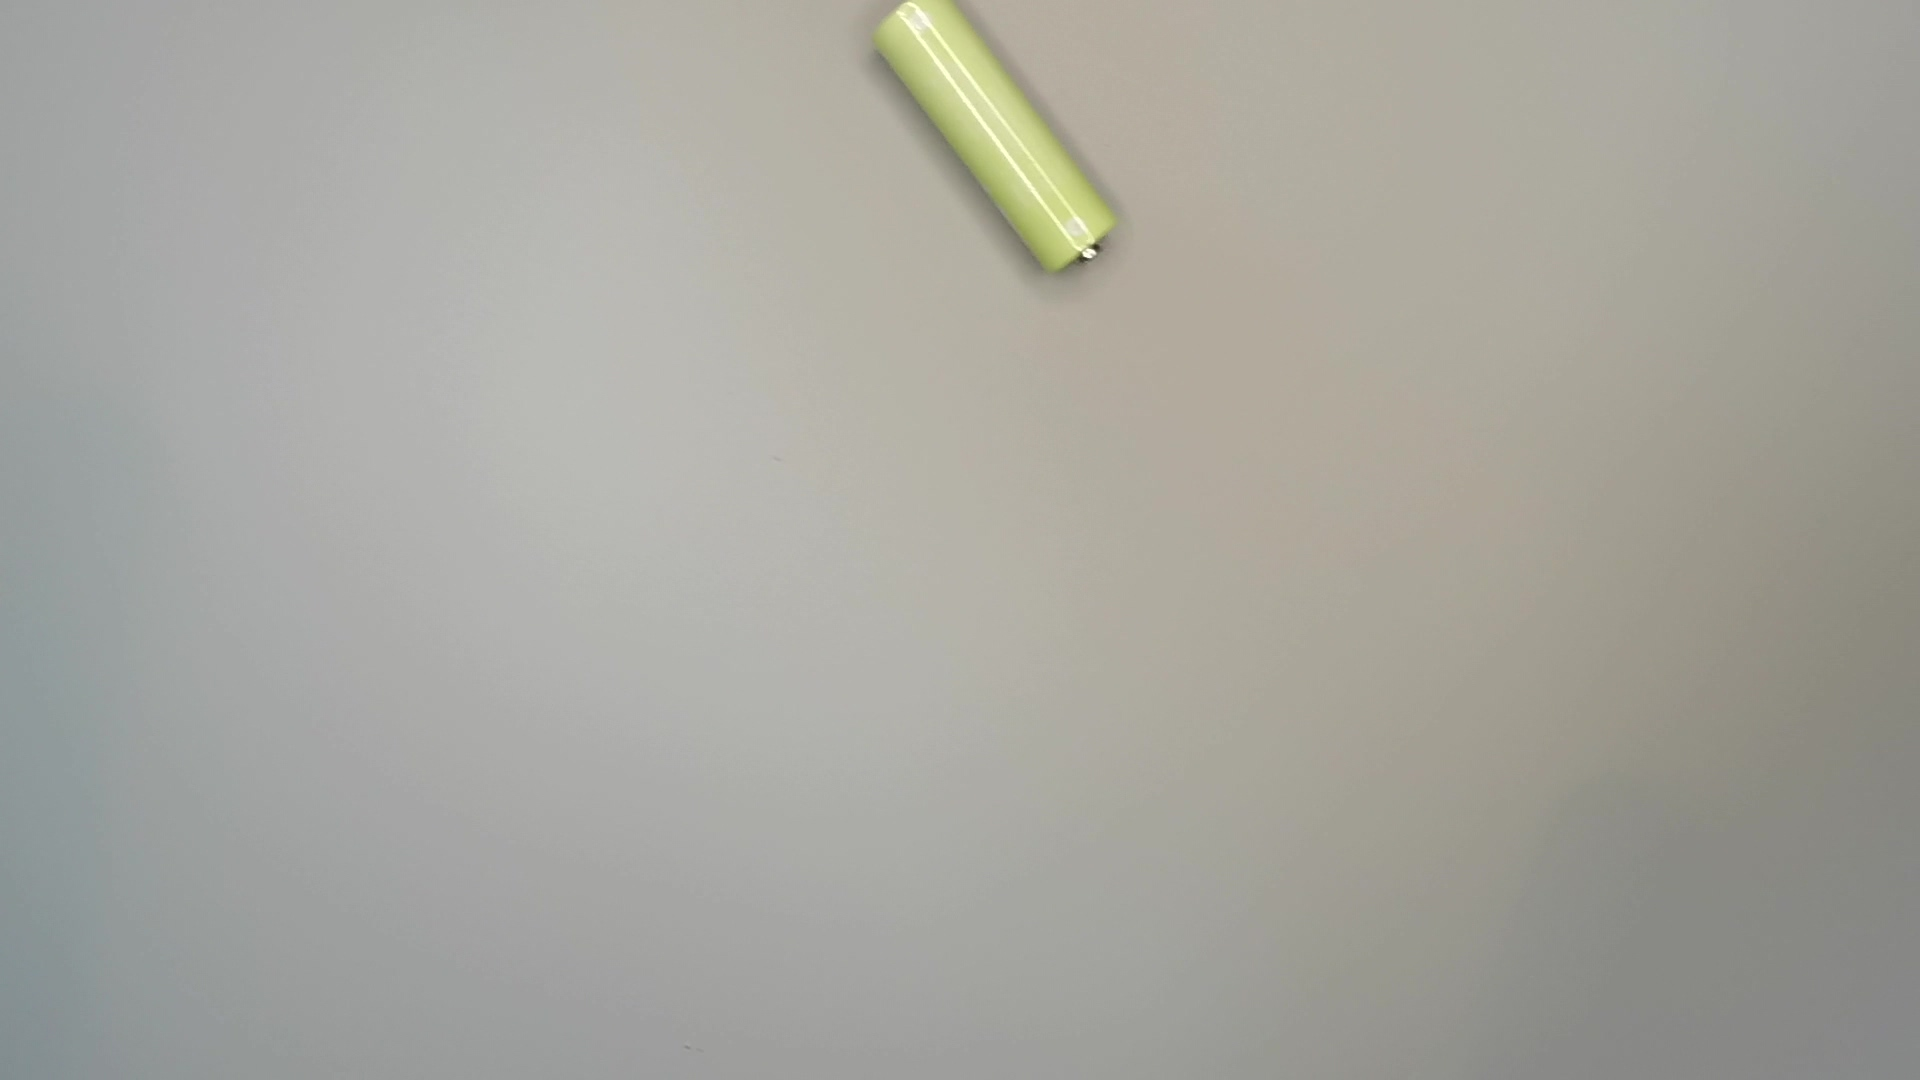battery: (870, 1, 1126, 276)
